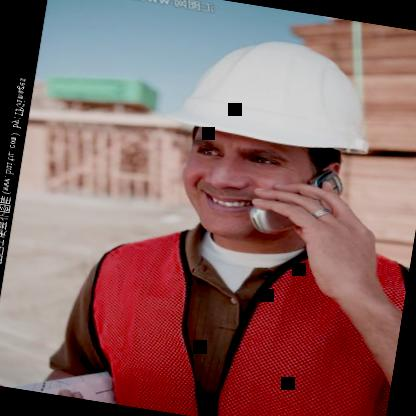helmet: (110, 0, 415, 266)
